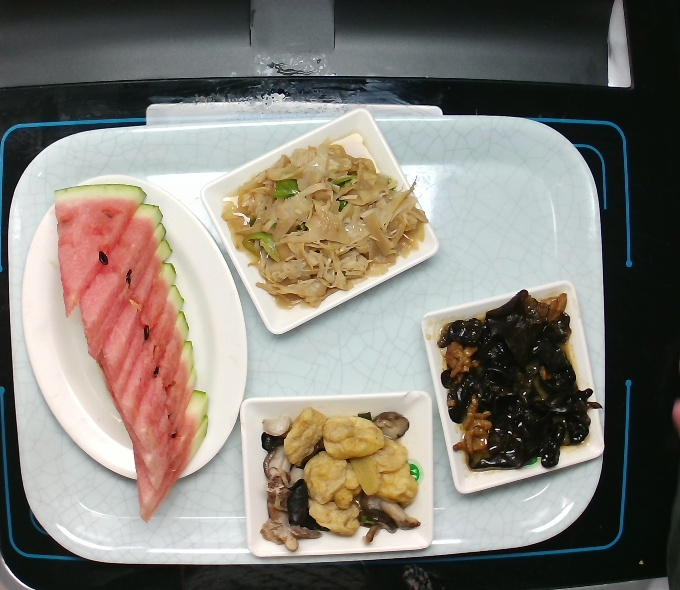wcq-LuSun: (222, 145, 426, 308)
wcq-MuErChaoRou: (431, 286, 602, 477)
wcq-XiGua: (46, 182, 216, 523)
wcq-YouPaoPaiGu: (249, 405, 423, 555)
